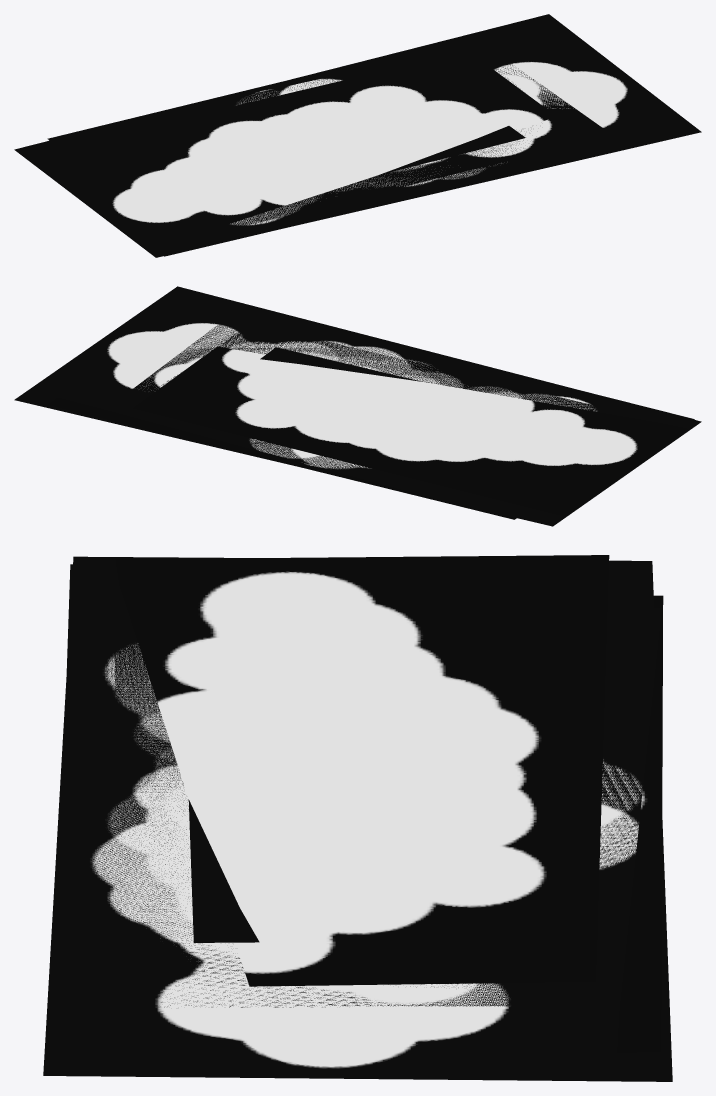
The model's file is Clouds.fbx.
3 views of the same model, one above another, from view 1: azimuth 30°, elevation 25°; view 2: azimuth 150°, elevation 25°; view 3: azimuth 270°, elevation 25° (orthographic). The views are drawn at different scales.
Parts seen in each view (by area): view 1: polySurface9, polySurface7, polySurface2, polySurface11, polySurface16, polySurface13, polySurface4, polySurface6; view 2: polySurface9, polySurface7, polySurface4, polySurface2, polySurface11, polySurface16, polySurface13, polySurface6; view 3: polySurface9, polySurface7, polySurface11, polySurface4, polySurface16, polySurface13, polySurface6, polySurface2.
Boxes of the visible parts, x1,y1,x2,y2 form: polySurface9: (23,51,556,249); polySurface7: (14,14,701,257); polySurface2: (205,117,589,234); polySurface11: (155,144,591,256); polySurface16: (47,23,532,140); polySurface13: (289,52,606,204); polySurface4: (61,47,516,144); polySurface6: (379,126,525,174); polySurface9: (132,346,688,516); polySurface7: (14,286,701,526); polySurface4: (117,325,638,516); polySurface2: (219,323,629,416); polySurface11: (233,315,694,419); polySurface16: (47,397,516,519); polySurface13: (114,321,361,407); polySurface6: (177,347,422,432); polySurface9: (115,555,609,986); polySurface7: (43,556,672,1081); polySurface11: (57,564,244,973); polySurface4: (114,608,661,993); polySurface16: (617,595,663,1052); polySurface13: (142,701,586,1007); polySurface6: (188,799,600,942); polySurface2: (113,617,521,989).
Size of the model in its own units: 0.4837 by 0.0038 by 0.245.
